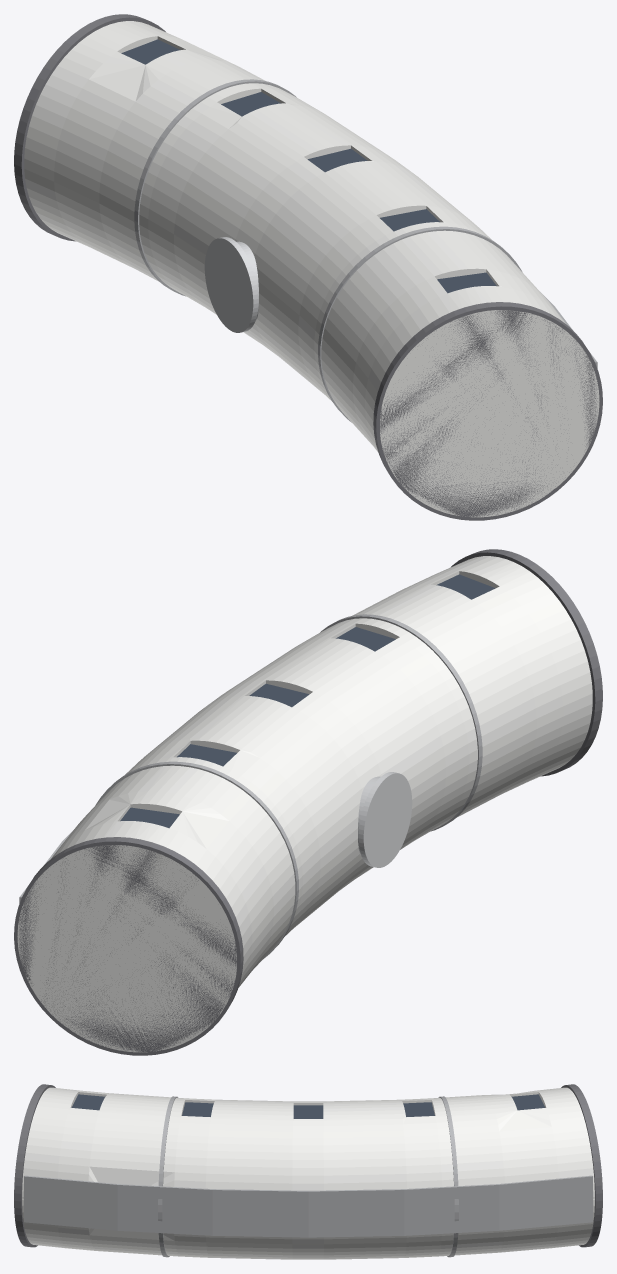
The model's file is station11_ring_segment.glb.
The picture shows the model from 3 angles, top to bottom: view 1: azimuth 30°, elevation 25°; view 2: azimuth 150°, elevation 25°; view 3: azimuth 270°, elevation 25°; orthographic projection. The views are drawn at different scales.
Visible parts, largest first — view 1: segment_hull, end_flanges, spoke_port, windows, ring_frames; view 2: segment_hull, end_flanges, spoke_port, windows, ring_frames; view 3: segment_hull, ballast_tank_band, end_flanges, windows, ring_frames.
Part boxes in pixels (x1,y1,x2,y2): segment_hull: (24, 21, 599, 517); end_flanges: (14, 14, 602, 520); spoke_port: (204, 237, 258, 332); windows: (121, 39, 496, 293); ring_frames: (134, 79, 522, 422); segment_hull: (17, 556, 592, 1052); end_flanges: (14, 549, 602, 1055); spoke_port: (358, 772, 412, 867); windows: (120, 574, 495, 828); ring_frames: (95, 614, 482, 958); segment_hull: (22, 1087, 594, 1259); ballast_tank_band: (24, 1175, 592, 1237); end_flanges: (14, 1084, 602, 1247); windows: (71, 1094, 545, 1118); ring_frames: (158, 1096, 458, 1257).
Bounding box in the file's own units: 4.63 × 3.87 × 13.94.
